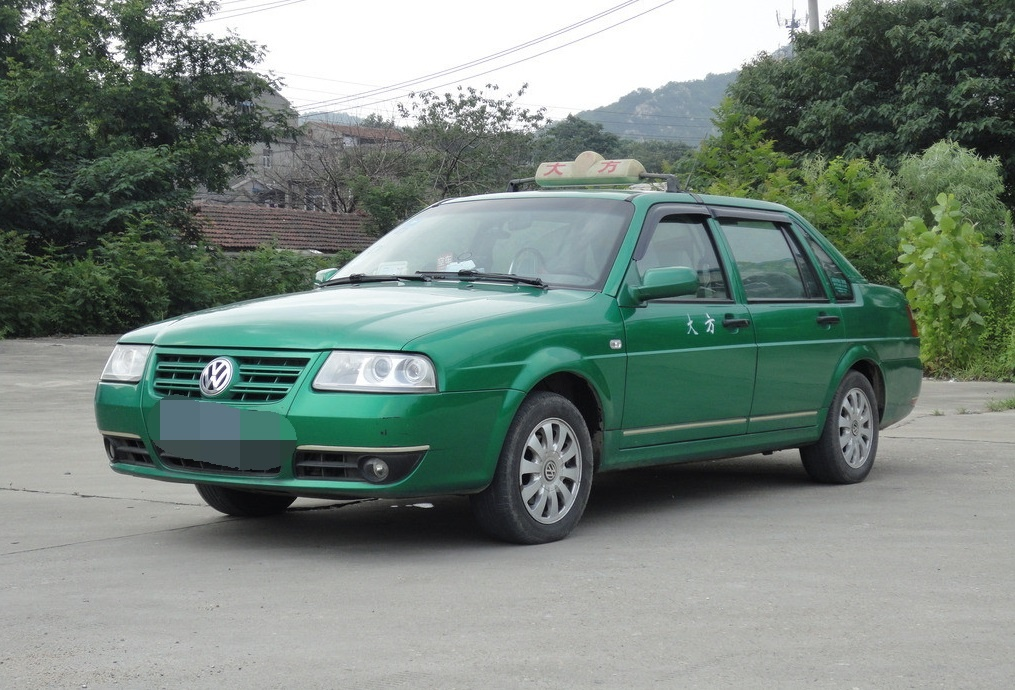taxi: (90, 161, 937, 521)
